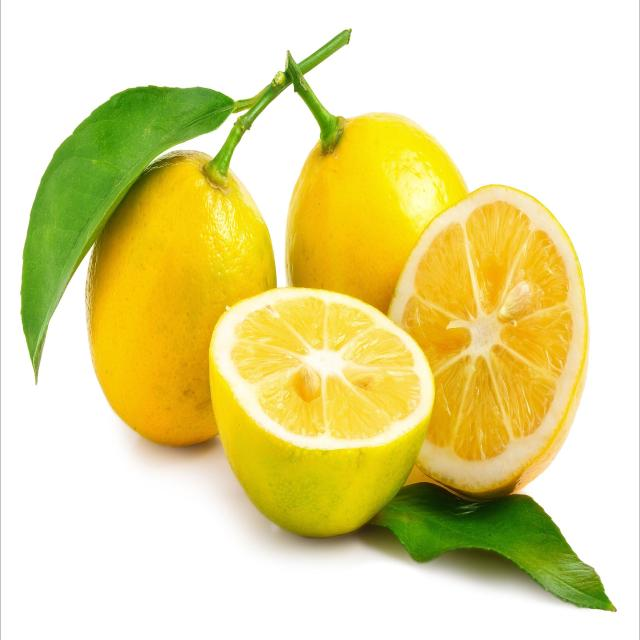lemon: (383, 178, 594, 502), (205, 281, 439, 548)
